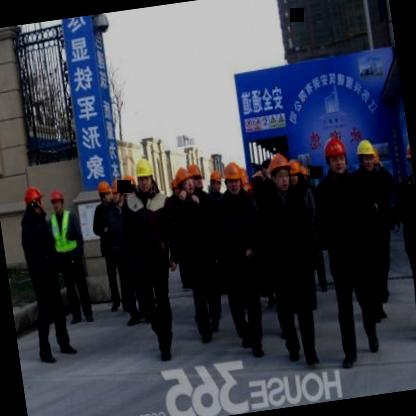helmet: (320, 132, 351, 180), (131, 155, 160, 199), (266, 151, 295, 194), (169, 160, 195, 202), (22, 182, 48, 222), (354, 137, 380, 176), (220, 158, 245, 198), (108, 176, 129, 207), (286, 156, 304, 191), (92, 176, 113, 206), (48, 184, 66, 216), (402, 136, 414, 182), (207, 166, 225, 196), (123, 173, 139, 204), (190, 162, 206, 190)
